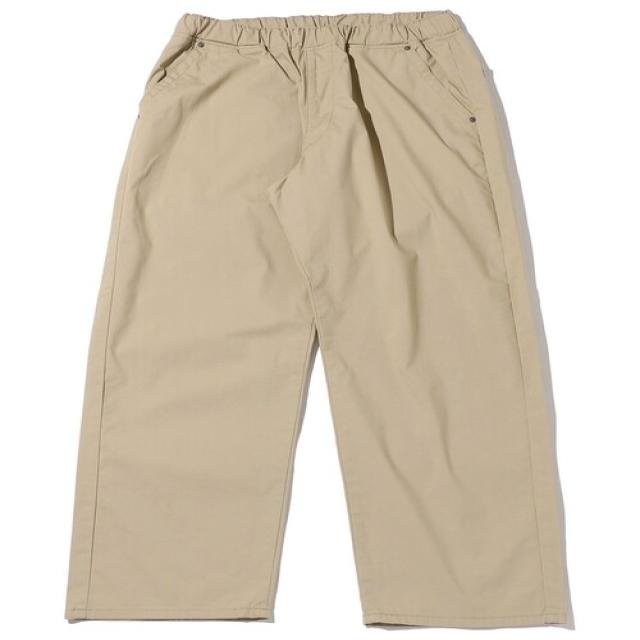long-pants: (67, 11, 573, 629)
